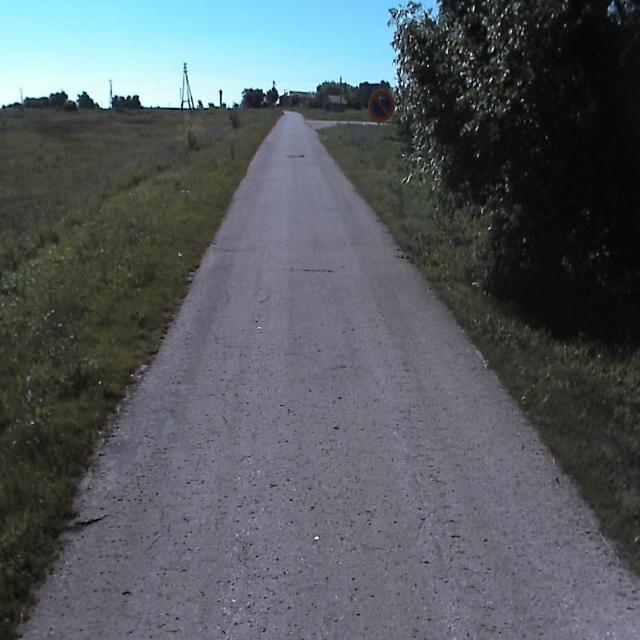road: (18, 110, 639, 639)
